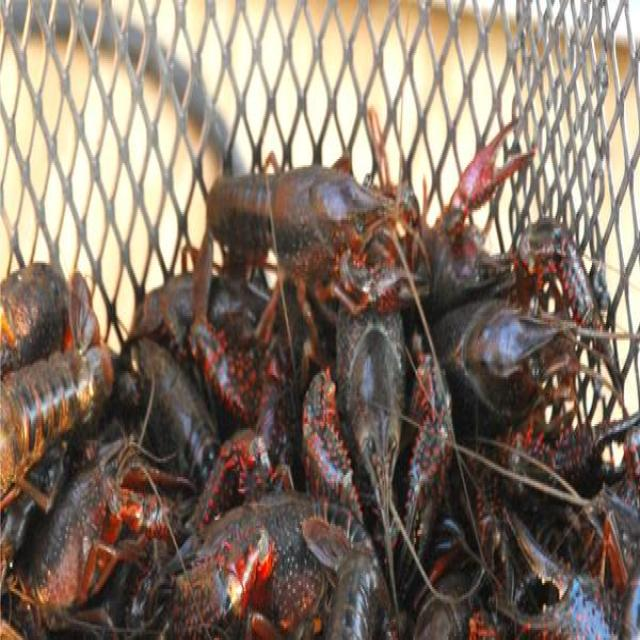Crawfish: (0, 107, 640, 640)
